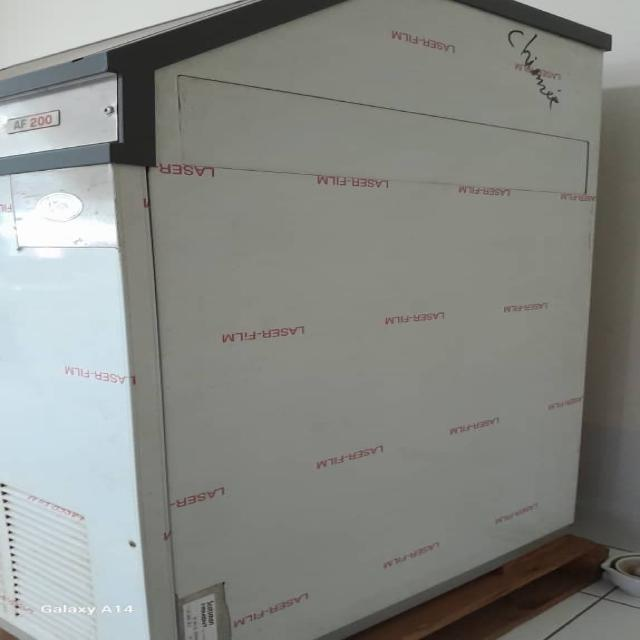Ice Maker: (15, 0, 628, 629)
